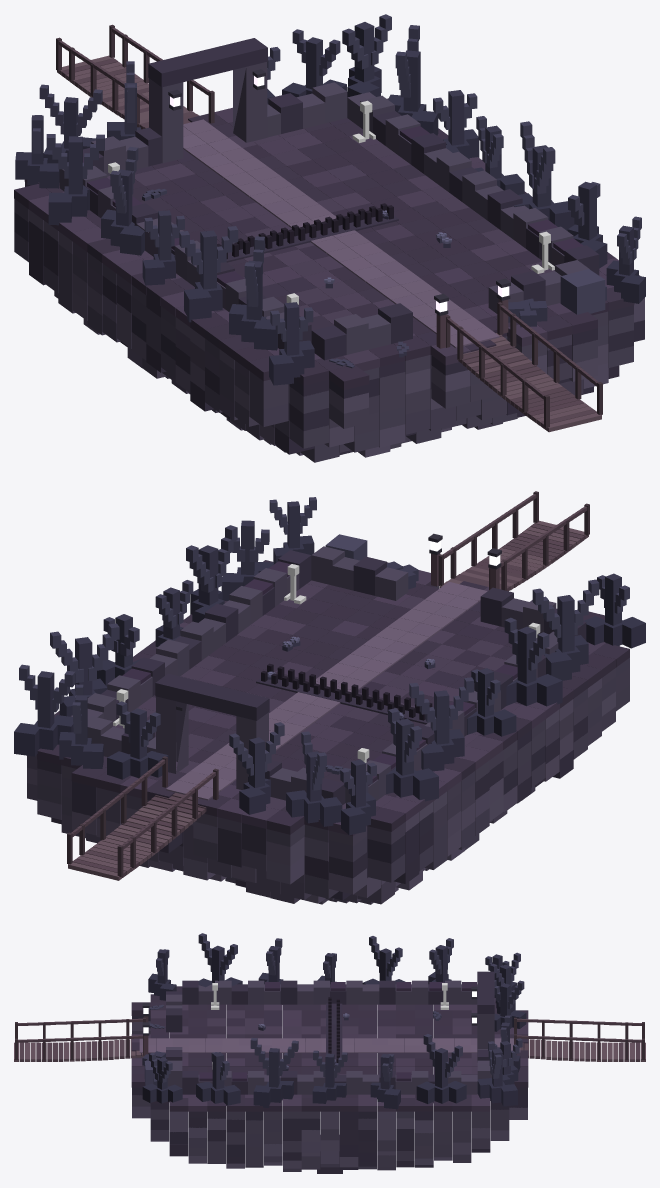
File: room_spikes_polluted.glb
The picture shows the model from 3 angles, top to bottom: view 1: azimuth 30°, elevation 25°; view 2: azimuth 150°, elevation 25°; view 3: azimuth 270°, elevation 25°; orthographic projection. The views are drawn at different scales.
Visible parts, largest first — view 1: room_spikes_blocks, tree4_(0, 0).001, tree4_(0, 0).002, tree2_(0, 0).001, tree0_(0, 0).001, tree5_(0, 0).001, tree2_(0, 0).002, tree1_(0, 0).003, tree5_(0, 0).002, tree1_(0, 0).001, tree3_(0, 0).002, tree0_(0, 0).002 (+8 smaller); view 2: room_spikes_blocks, tree1_(0, 0).003, tree2_(0, 0).001, tree4_(0, 0).001, tree2_(0, 0).002, tree4_(0, 0).002, tree5_(0, 0).002, tree0_(0, 0).001, tree4_(0, 0).003, tree5_(0, 0).001, tree2_(0, 0).003, tree2_(0, 0).004 (+8 smaller); view 3: room_spikes_blocks, tree5_(0, 0).002, tree5_(0, 0).001, tree1_(0, 0).003, tree3_(0, 0).001, tree1_(0, 0).002, tree1_(0, 0).001, tree2_(0, 0).001, tree2_(0, 0).004, tree3_(0, 0).002, tree2_(0, 0).002, tree0_(0, 0).001 (+5 smaller).
Boxes of the visible parts, <box> form: room_spikes_blocks: <box>14,24,644,462</box>; tree4_(0, 0).001: <box>179,226,238,322</box>; tree4_(0, 0).002: <box>46,134,104,225</box>; tree2_(0, 0).001: <box>229,236,277,350</box>; tree0_(0, 0).001: <box>269,302,314,385</box>; tree5_(0, 0).001: <box>514,121,574,230</box>; tree2_(0, 0).002: <box>101,146,144,255</box>; tree1_(0, 0).003: <box>342,14,391,97</box>; tree5_(0, 0).002: <box>388,25,438,135</box>; tree1_(0, 0).001: <box>606,216,645,303</box>; tree3_(0, 0).002: <box>433,90,479,159</box>; tree0_(0, 0).002: <box>142,210,184,285</box>; room_spikes_blocks: <box>27,491,629,904</box>; tree1_(0, 0).003: <box>14,664,75,756</box>; tree2_(0, 0).001: <box>532,579,599,680</box>; tree4_(0, 0).001: <box>504,617,562,706</box>; tree2_(0, 0).002: <box>409,677,473,771</box>; tree4_(0, 0).002: <box>386,708,438,801</box>; tree5_(0, 0).002: <box>50,623,119,716</box>; tree0_(0, 0).001: <box>583,573,645,648</box>; tree4_(0, 0).003: <box>107,701,168,779</box>; tree5_(0, 0).001: <box>186,525,237,622</box>; tree2_(0, 0).003: <box>286,731,342,826</box>; tree2_(0, 0).004: <box>229,722,284,814</box>; room_spikes_blocks: <box>14,971,645,1173</box>; tree5_(0, 0).002: <box>416,1034,466,1103</box>; tree5_(0, 0).001: <box>250,1038,298,1107</box>; tree1_(0, 0).003: <box>477,1041,517,1106</box>; tree3_(0, 0).001: <box>196,1052,240,1105</box>; tree1_(0, 0).002: <box>312,1050,347,1103</box>; tree1_(0, 0).001: <box>142,1052,182,1103</box>; tree2_(0, 0).001: <box>198,933,242,987</box>; tree2_(0, 0).004: <box>494,980,526,1031</box>; tree3_(0, 0).002: <box>370,1054,400,1109</box>; tree2_(0, 0).002: <box>362,936,405,984</box>; tree0_(0, 0).001: <box>148,949,176,1000</box>.
Bounding box in the file's own units: 17.83 × 12.1 × 38.5.
